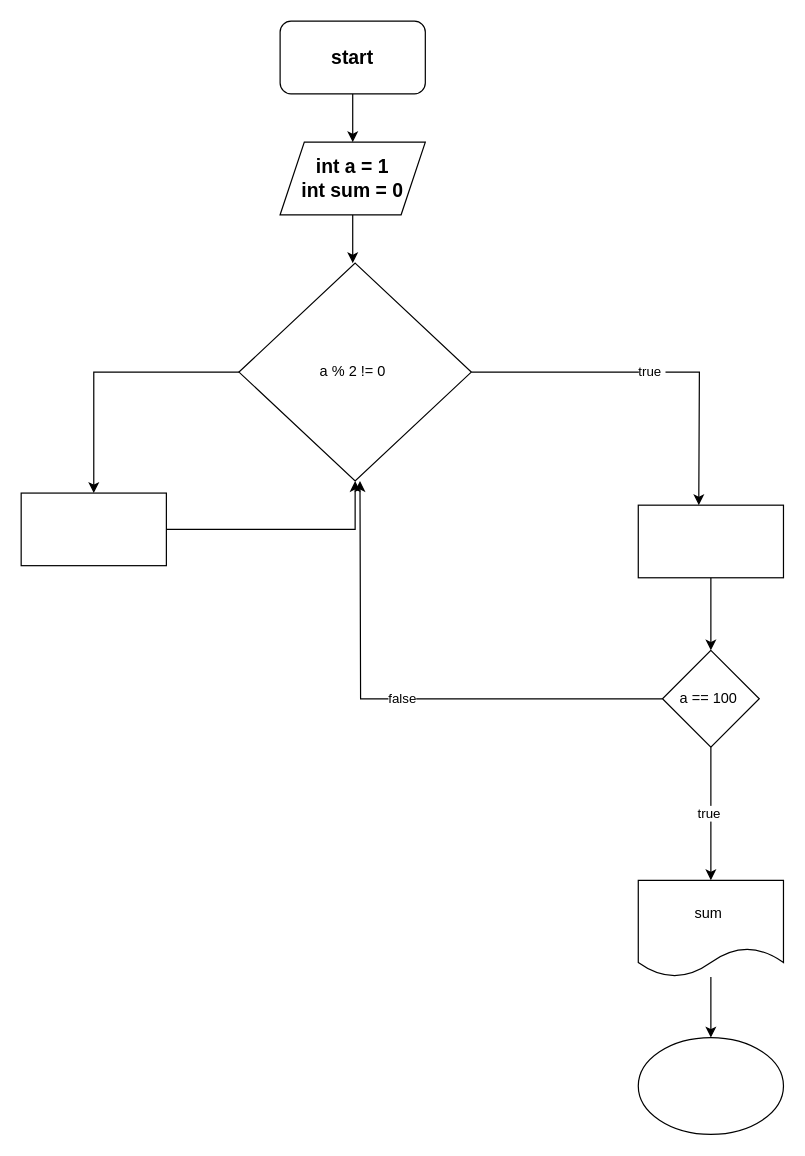
The diagram is 805 pixels wide and 1156 high, and some of its shapes have lost their labels. Each missing label, with the centre of its shape:
a++: the point at 93,529
finish: the point at 710,1085
sum += a a++: the point at 710,541
